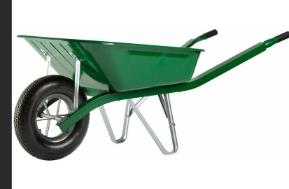BROUETTE: (11, 26, 289, 170)
